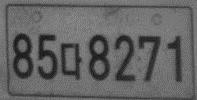1: (165, 34, 183, 83)
2: (112, 33, 136, 83)
5: (36, 32, 59, 81)
7: (136, 34, 161, 82)
8: (87, 34, 111, 81), (10, 32, 33, 80)
다: (59, 41, 83, 81)
